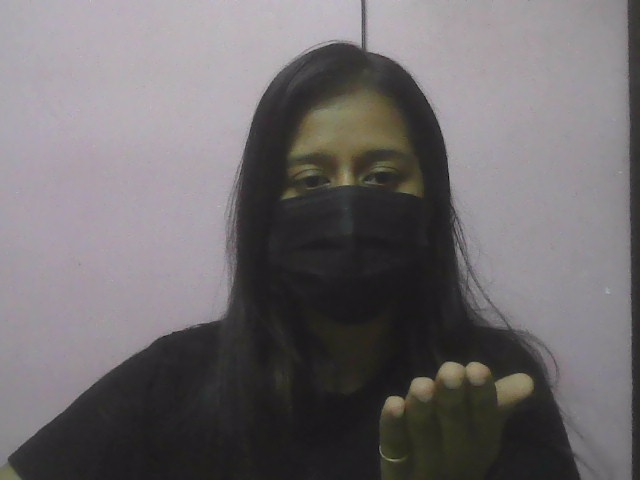Thank you: (323, 299, 550, 479)
